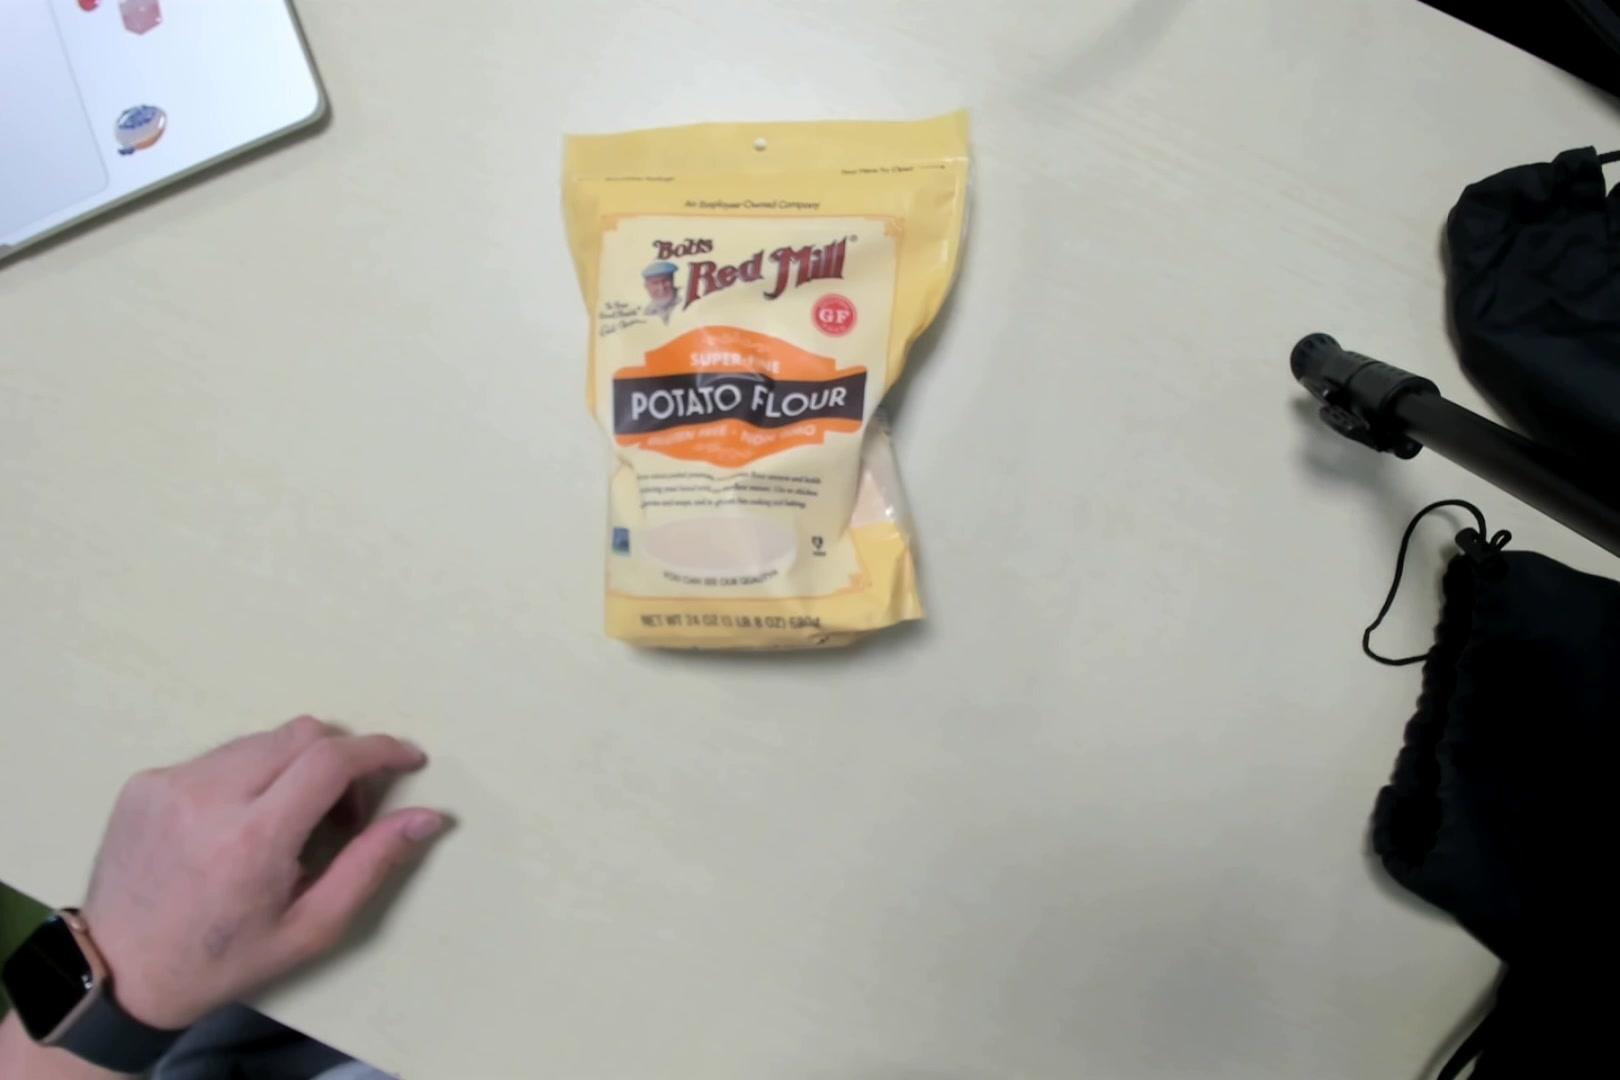OtherBakingNeeds_600-699g_NonHalal_NonHealthy: (554, 115, 968, 673)
